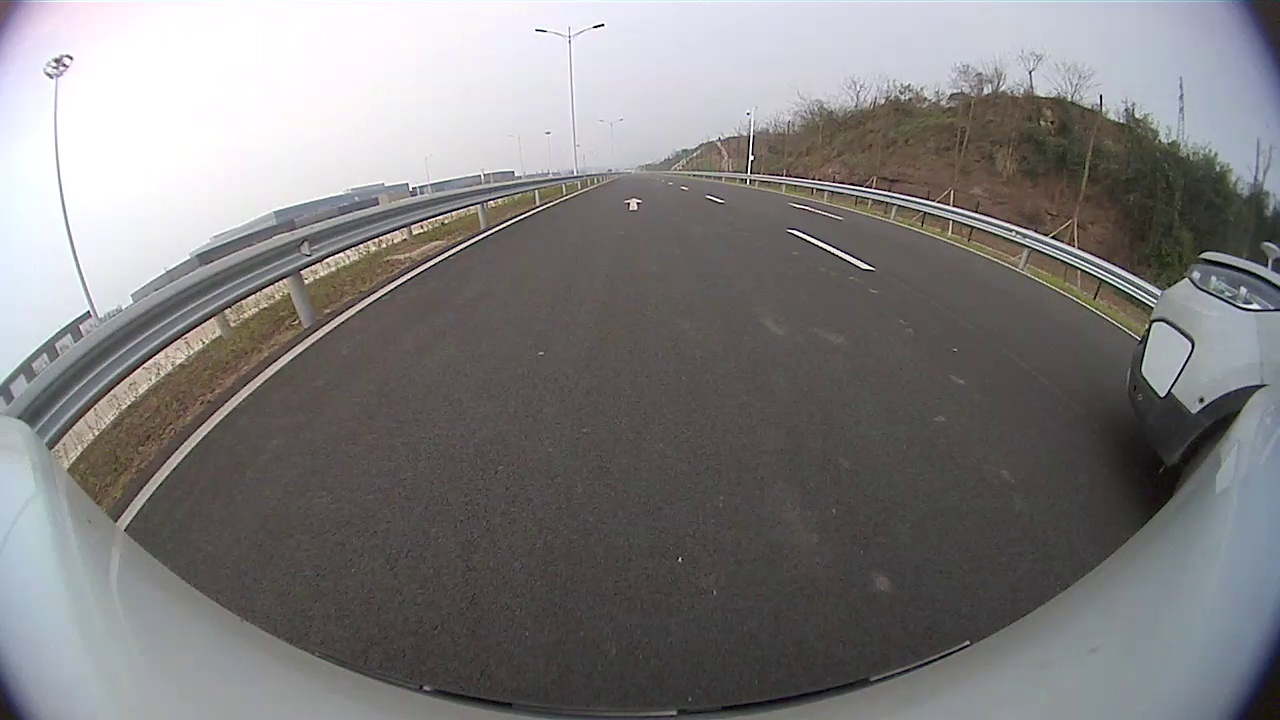car: (1126, 248, 1277, 498)
